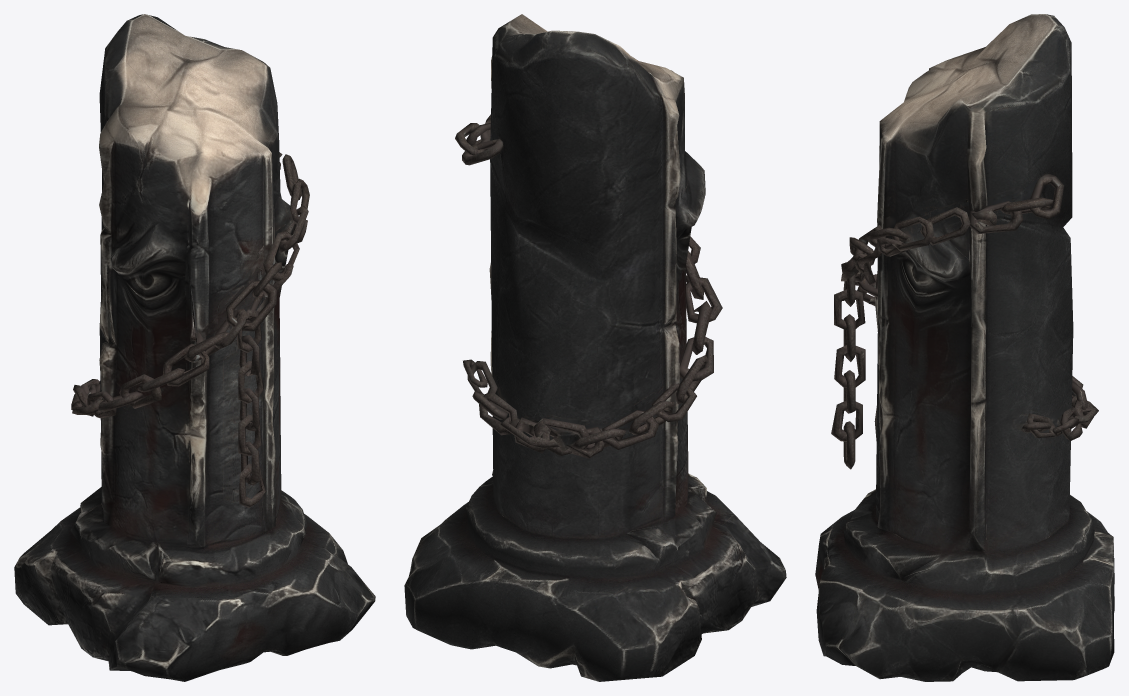
The model's file is wrath-column.glb.
The picture shows the model from 3 angles, left to right: view 1: azimuth 30°, elevation 25°; view 2: azimuth 150°, elevation 25°; view 3: azimuth 270°, elevation 25°; orthographic projection. The views are drawn at different scales.
Size of the model in its own units: 0.4507 by 0.9541 by 0.4351.
1 material, 1 textured.
